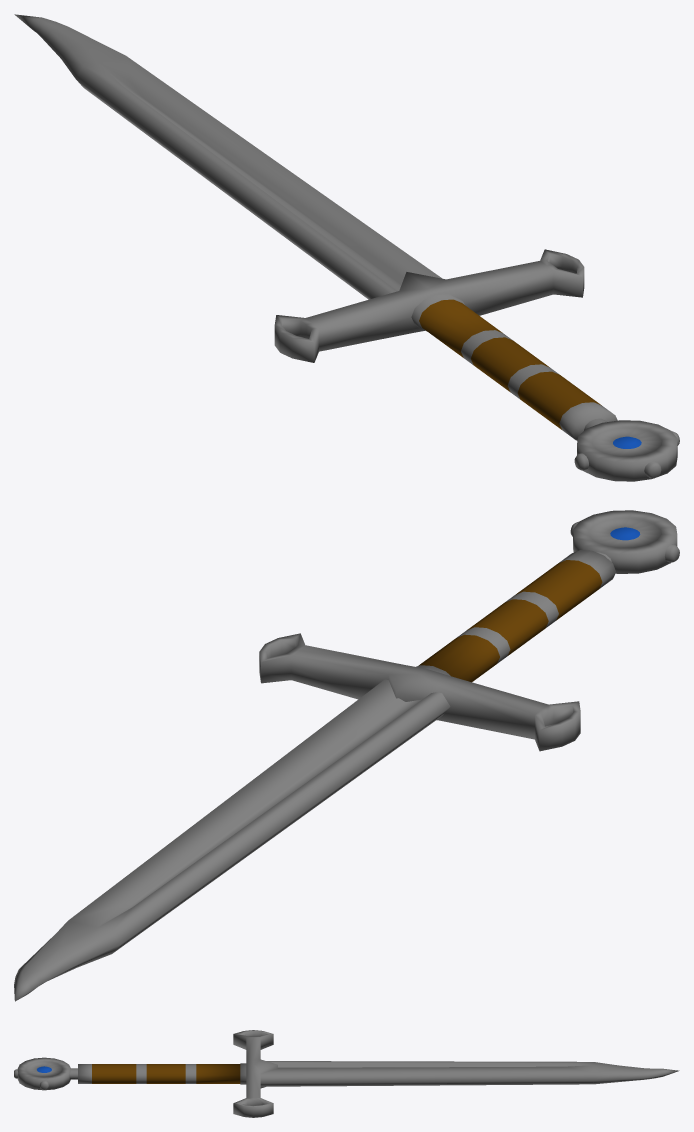
The model's file is sword.glb.
3 renders of one model, top to bottom at view 1: azimuth 30°, elevation 25°; view 2: azimuth 150°, elevation 25°; view 3: azimuth 270°, elevation 25°, orthographic. The views are drawn at different scales.
Visible parts, largest first — view 1: StraightSword1_165; view 2: StraightSword1_165; view 3: StraightSword1_165.
Part boxes in pixels (x1,y1,x2,y2): StraightSword1_165: [14, 14, 679, 481]; StraightSword1_165: [14, 510, 679, 1001]; StraightSword1_165: [14, 1030, 679, 1117].
Size of the model in its own units: 0.2224 by 0.025 by 0.8117.
